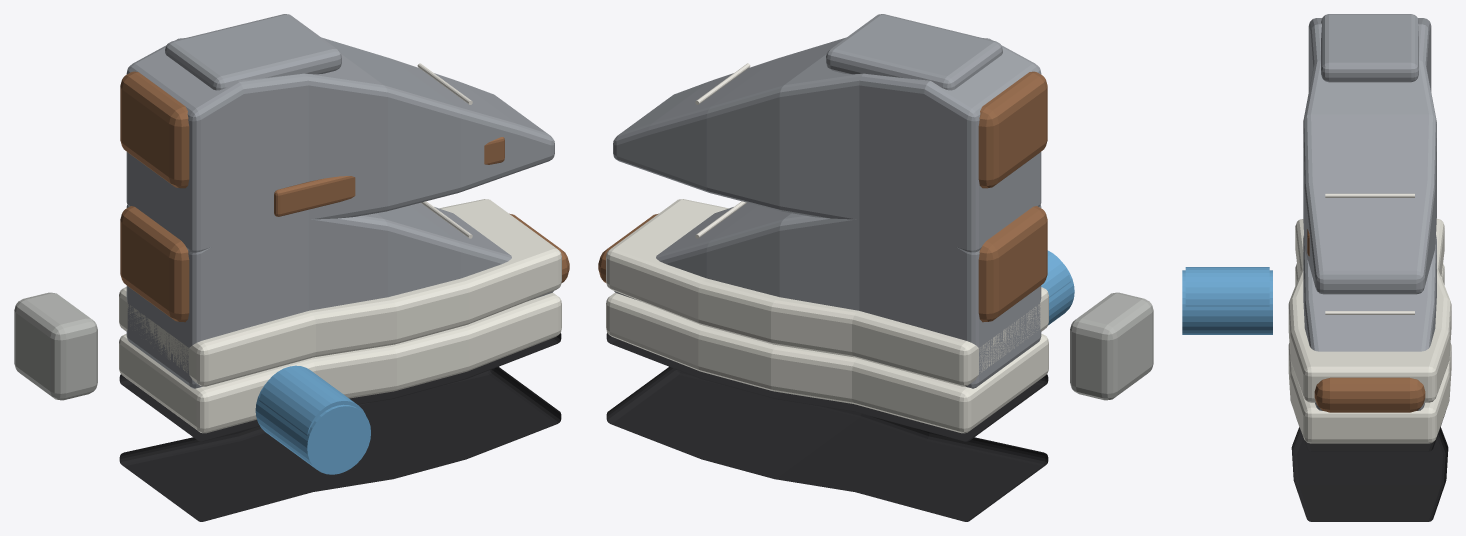
File: nike-tailwind-1978.glb
The picture shows the model from 3 angles, left to right: view 1: azimuth 30°, elevation 25°; view 2: azimuth 150°, elevation 25°; view 3: azimuth 270°, elevation 25°; orthographic projection. The views are drawn at different scales.
Visible parts, largest first — view 1: nike-tailwind-1978_UPPER_EXPLODED, nike-tailwind-1978_UPPER, nike-tailwind-1978_OUTSOLE_EXPLODED, nike-tailwind-1978_MIDSOLE_EXPLODED, nike-tailwind-1978_MIDSOLE, nike-tailwind-1978_TONGUE_EXPLODED, nike-tailwind-1978_HEEL_FOAM_EXPLODED, nike-tailwind-1978_HEEL_COUNTER_EXPLODED, nike-tailwind-1978_HEEL_COUNTER, nike-tailwind-1978_AIR_HEEL_EXPLODED, nike-tailwind-1978_AIR_UNIT_EXPLODED, nike-tailwind-1978_OUTSOLE (+1 smaller); view 2: nike-tailwind-1978_UPPER_EXPLODED, nike-tailwind-1978_OUTSOLE_EXPLODED, nike-tailwind-1978_UPPER, nike-tailwind-1978_MIDSOLE_EXPLODED, nike-tailwind-1978_MIDSOLE, nike-tailwind-1978_TONGUE_EXPLODED, nike-tailwind-1978_HEEL_FOAM_EXPLODED, nike-tailwind-1978_HEEL_COUNTER_EXPLODED, nike-tailwind-1978_HEEL_COUNTER, nike-tailwind-1978_OUTSOLE, nike-tailwind-1978_AIR_UNIT_EXPLODED, nike-tailwind-1978_AIR_HEEL_EXPLODED; view 3: nike-tailwind-1978_UPPER_EXPLODED, nike-tailwind-1978_OUTSOLE_EXPLODED, nike-tailwind-1978_MIDSOLE_EXPLODED, nike-tailwind-1978_UPPER, nike-tailwind-1978_TONGUE_EXPLODED, nike-tailwind-1978_MIDSOLE, nike-tailwind-1978_TOE_OVERLAY, nike-tailwind-1978_AIR_UNIT_EXPLODED, nike-tailwind-1978_AIR_HEEL_EXPLODED, nike-tailwind-1978_OUTSOLE, nike-tailwind-1978_LACE_5_EXPLODED, nike-tailwind-1978_LACE_5.
Boxes of the visible parts, box(x1,y1,x2,y2) form: nike-tailwind-1978_UPPER_EXPLODED: box(126, 37, 554, 252); nike-tailwind-1978_UPPER: box(126, 203, 553, 388); nike-tailwind-1978_OUTSOLE_EXPLODED: box(119, 366, 561, 521); nike-tailwind-1978_MIDSOLE_EXPLODED: box(119, 199, 561, 386); nike-tailwind-1978_MIDSOLE: box(119, 292, 561, 433); nike-tailwind-1978_TONGUE_EXPLODED: box(165, 14, 341, 90); nike-tailwind-1978_HEEL_FOAM_EXPLODED: box(14, 292, 97, 400); nike-tailwind-1978_HEEL_COUNTER_EXPLODED: box(120, 71, 189, 188); nike-tailwind-1978_HEEL_COUNTER: box(120, 206, 189, 322); nike-tailwind-1978_AIR_HEEL_EXPLODED: box(255, 382, 370, 474); nike-tailwind-1978_AIR_UNIT_EXPLODED: box(259, 365, 365, 435); nike-tailwind-1978_OUTSOLE: box(119, 333, 561, 441); nike-tailwind-1978_UPPER_EXPLODED: box(613, 37, 1041, 252); nike-tailwind-1978_OUTSOLE_EXPLODED: box(606, 366, 1048, 521); nike-tailwind-1978_UPPER: box(614, 203, 1041, 388); nike-tailwind-1978_MIDSOLE_EXPLODED: box(606, 199, 1048, 386); nike-tailwind-1978_MIDSOLE: box(606, 292, 1048, 433); nike-tailwind-1978_TONGUE_EXPLODED: box(826, 14, 1002, 90); nike-tailwind-1978_HEEL_FOAM_EXPLODED: box(1070, 292, 1153, 400); nike-tailwind-1978_HEEL_COUNTER_EXPLODED: box(978, 71, 1047, 188); nike-tailwind-1978_HEEL_COUNTER: box(978, 206, 1047, 322); nike-tailwind-1978_OUTSOLE: box(606, 333, 1048, 441); nike-tailwind-1978_AIR_UNIT_EXPLODED: box(1041, 250, 1070, 297); nike-tailwind-1978_AIR_HEEL_EXPLODED: box(1048, 264, 1074, 325); nike-tailwind-1978_UPPER_EXPLODED: box(1303, 18, 1436, 294); nike-tailwind-1978_OUTSOLE_EXPLODED: box(1291, 427, 1448, 521); nike-tailwind-1978_MIDSOLE_EXPLODED: box(1288, 219, 1451, 402); nike-tailwind-1978_UPPER: box(1303, 235, 1436, 410); nike-tailwind-1978_TONGUE_EXPLODED: box(1321, 14, 1418, 82); nike-tailwind-1978_MIDSOLE: box(1288, 263, 1451, 443); nike-tailwind-1978_TOE_OVERLAY: box(1314, 377, 1425, 412); nike-tailwind-1978_AIR_UNIT_EXPLODED: box(1185, 267, 1269, 306); nike-tailwind-1978_AIR_HEEL_EXPLODED: box(1182, 270, 1272, 334); nike-tailwind-1978_OUTSOLE: box(1296, 416, 1444, 451); nike-tailwind-1978_LACE_5_EXPLODED: box(1325, 193, 1414, 197); nike-tailwind-1978_LACE_5: box(1325, 311, 1414, 314).
Size of the model in its own units: 0.4002 by 0.319 by 0.208.
